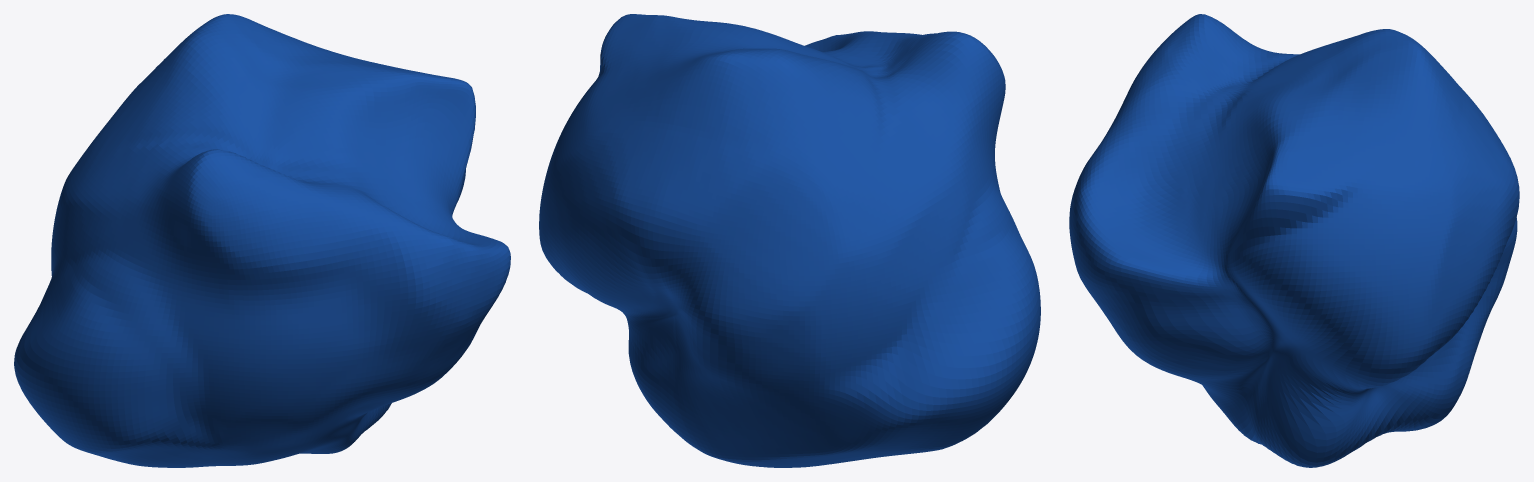
File: blenderScluptOne.glb
3 views of the same model, side by side, from view 1: azimuth 30°, elevation 25°; view 2: azimuth 150°, elevation 25°; view 3: azimuth 270°, elevation 25° (orthographic). The views are drawn at different scales.
Visible parts, largest first — view 1: Quad Sphere; view 2: Quad Sphere; view 3: Quad Sphere.
Part boxes in pixels (box(x1,y1,x2,y2)): Quad Sphere: box(14, 14, 510, 467); Quad Sphere: box(539, 14, 1040, 467); Quad Sphere: box(1069, 14, 1519, 467).
Size of the model in its own units: 2.81 by 2.53 by 2.61.
